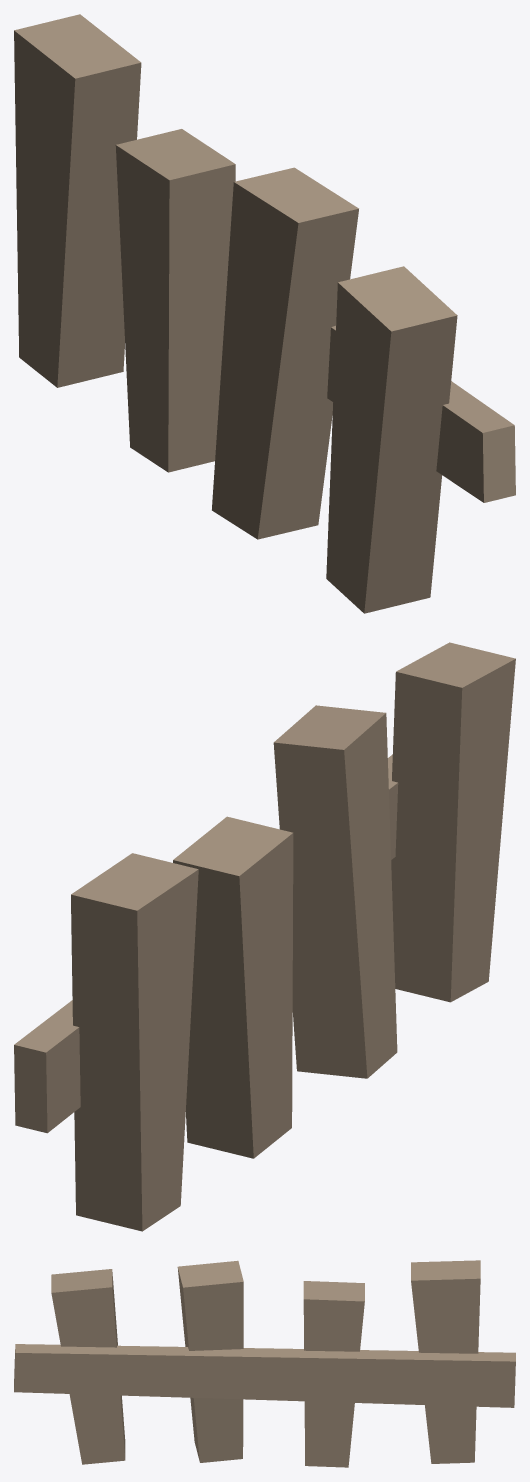
The model's file is A_WoodenFence.fbx.
3 views of the same model, one above another, from view 1: azimuth 30°, elevation 25°; view 2: azimuth 150°, elevation 25°; view 3: azimuth 270°, elevation 25° (orthographic). The views are drawn at different scales.
Visible parts, largest first — view 1: pCube6; view 2: pCube6; view 3: pCube6.
Boxes of the visible parts, bbox=[...] form: pCube6: bbox=[14, 14, 515, 613]; pCube6: bbox=[14, 642, 515, 1231]; pCube6: bbox=[14, 1260, 515, 1467].
Bounding box in the file's own units: 6.87 × 20.43 × 48.8.
